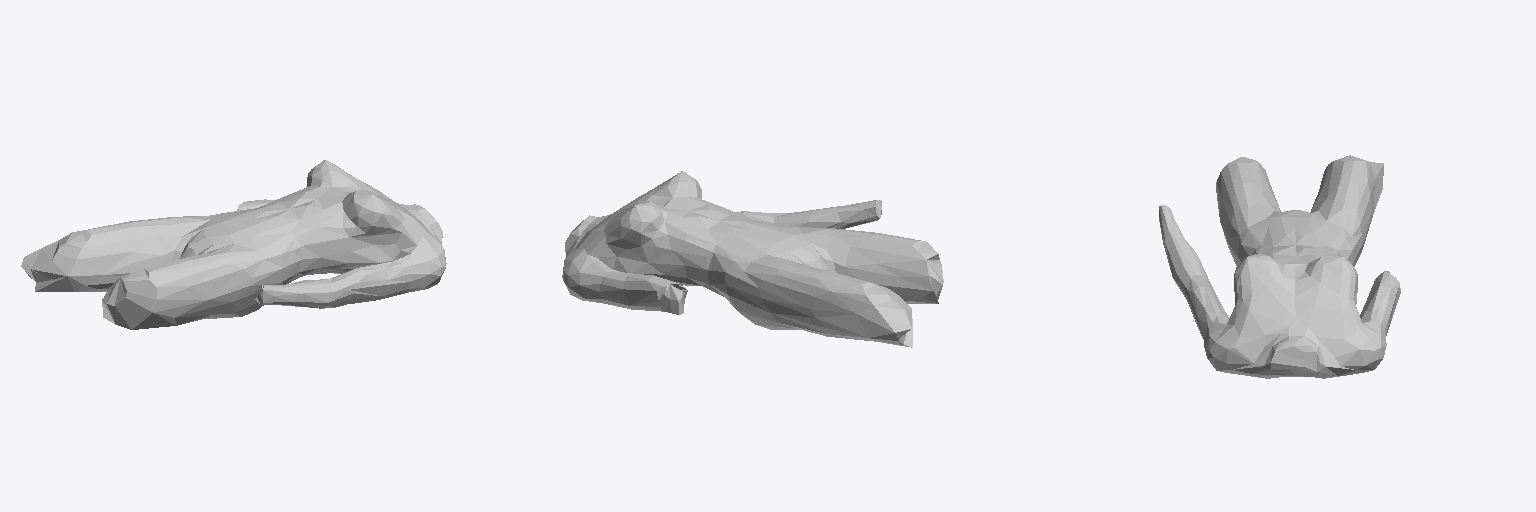
Rendered from gibs_1_008.obj.
3 views of the same model, side by side, from view 1: azimuth 30°, elevation 25°; view 2: azimuth 150°, elevation 25°; view 3: azimuth 270°, elevation 25° (orthographic).
Visible parts, largest first — view 1: corps_1.002_base.obj.006; view 2: corps_1.002_base.obj.006; view 3: corps_1.002_base.obj.006.
Boxes of the visible parts, x1,y1,x2,y2 form: corps_1.002_base.obj.006: [21, 160, 446, 329]; corps_1.002_base.obj.006: [562, 171, 943, 347]; corps_1.002_base.obj.006: [1159, 155, 1400, 378].
Size of the model in its own units: 3.14 by 0.7877 by 1.78.